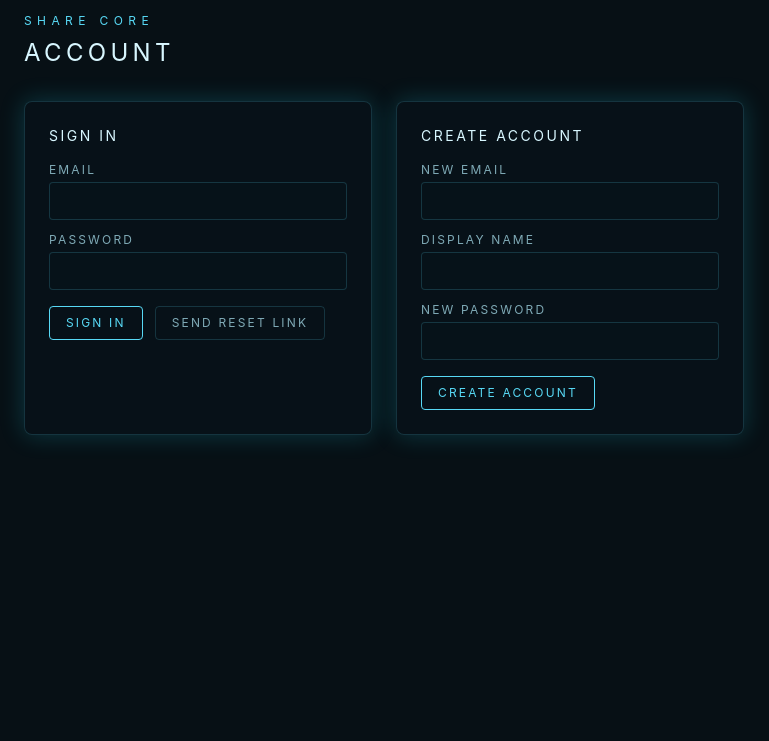
Test: AccountPage anonymous forms › logs in and lands on the profile panel
This screenshot has width=769, height=741.
Type "ada@example.com" into the field labelled "Email" at (198, 201), box [49, 182, 347, 220]
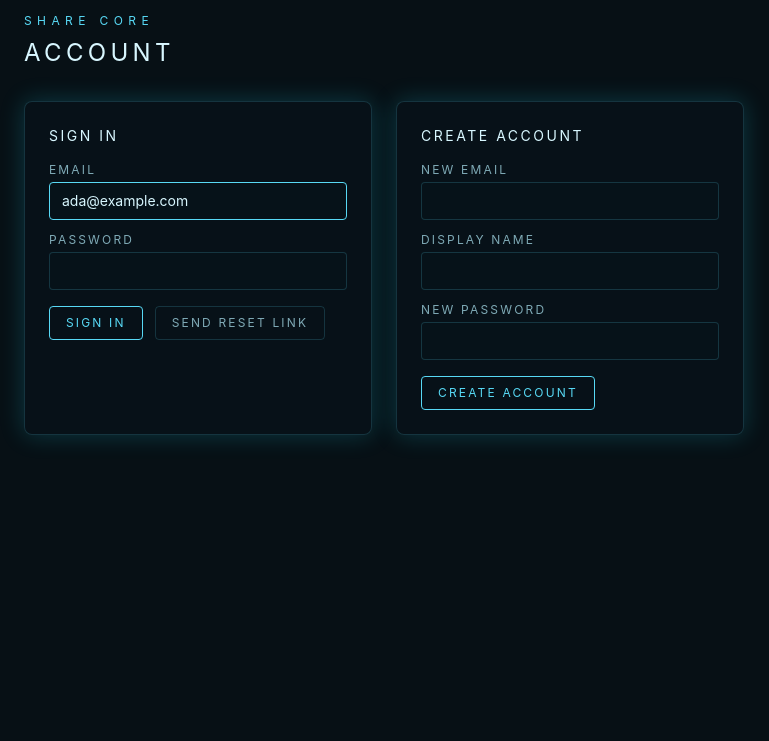
Type "hunter22hunter22" into the password field labelled "Password" at (198, 271), box [49, 252, 347, 290]
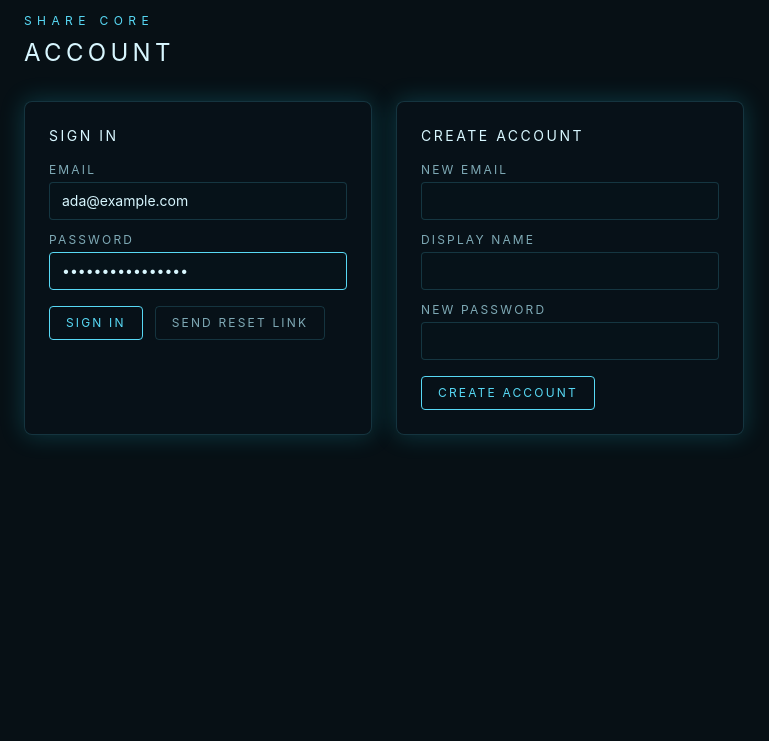
Click the button "Sign In" at (96, 323), box [49, 306, 143, 340]
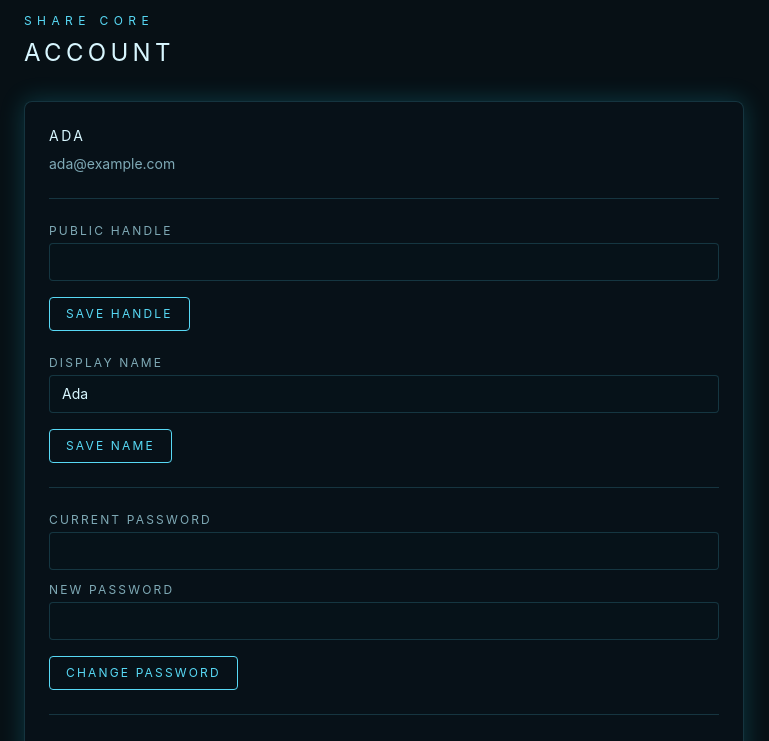
Now the text "ada@example.com" is shown, box [49, 155, 175, 172]
